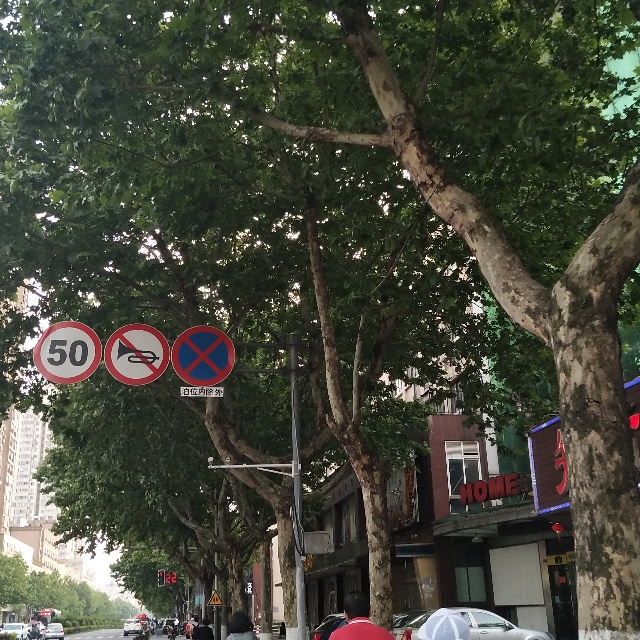nohonk: (102, 318, 168, 381)
stop: (169, 319, 237, 391)
